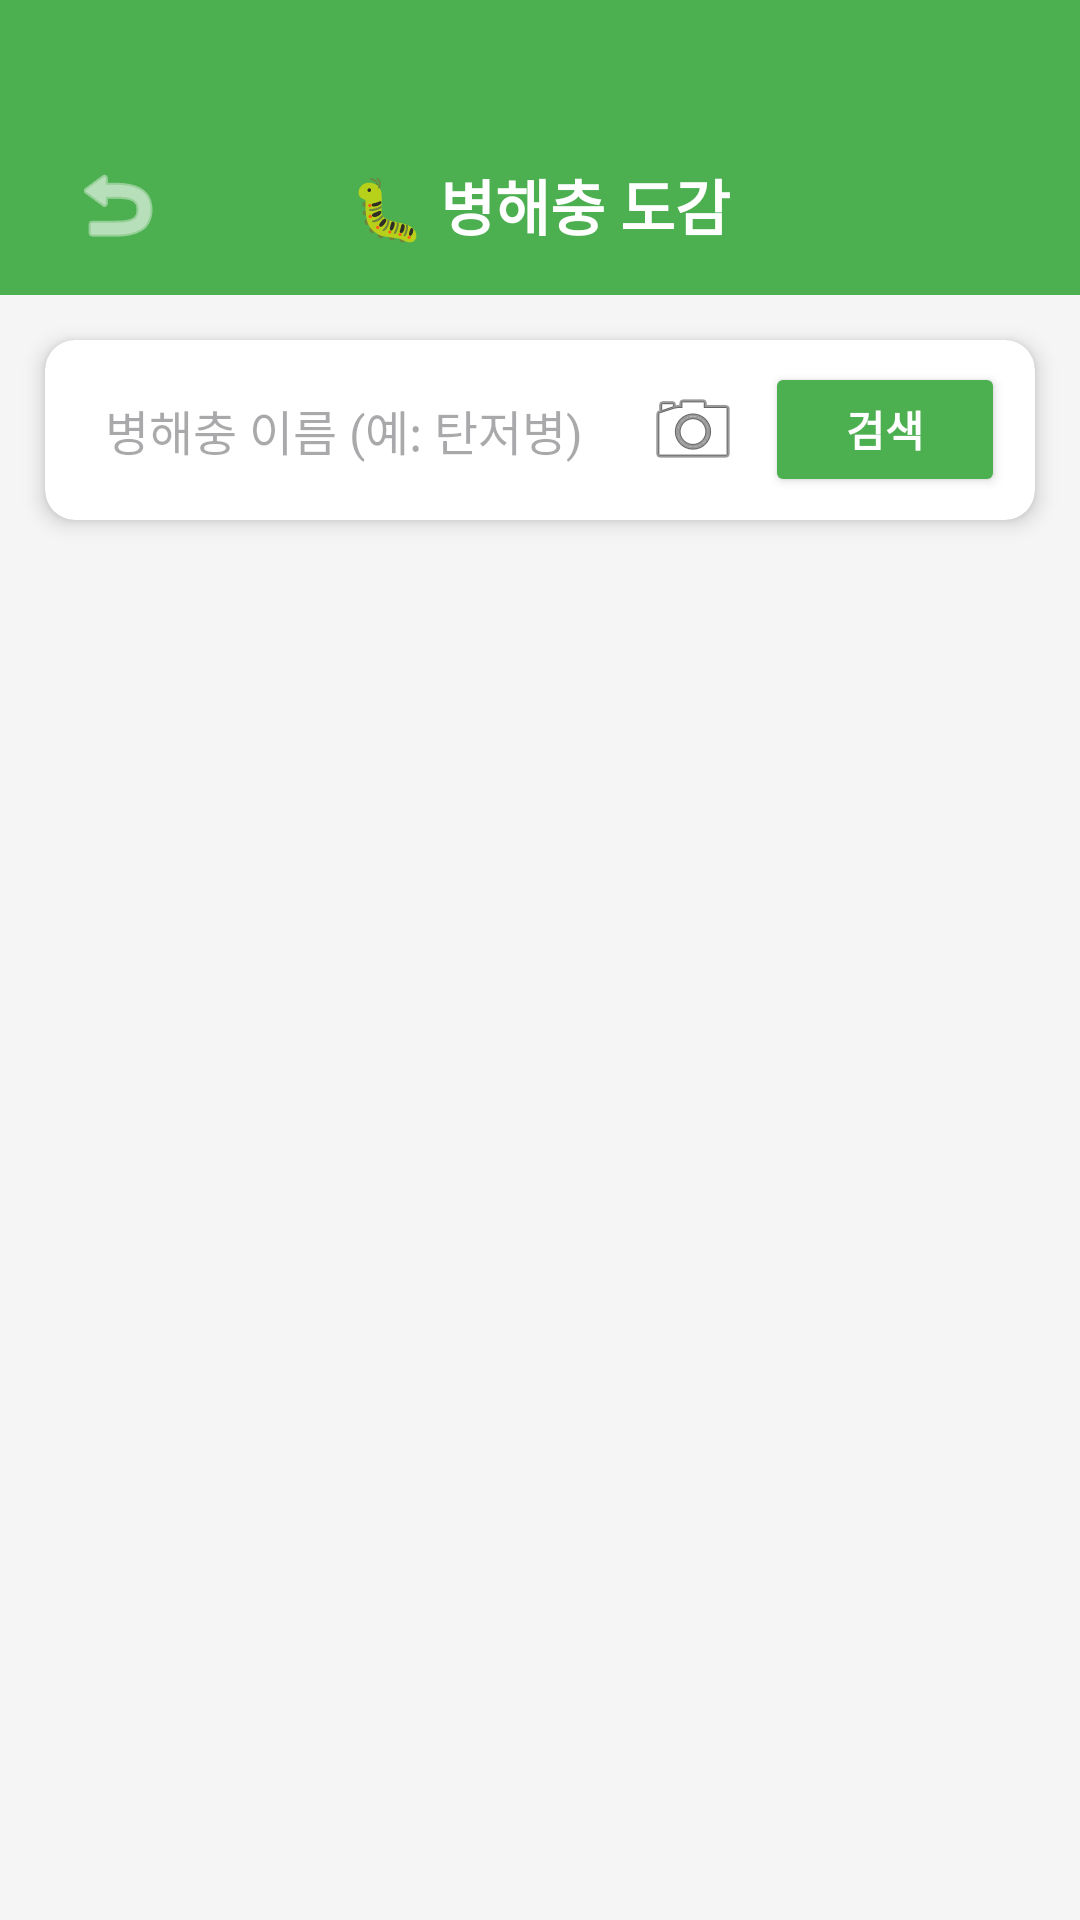

Icon click points for this 1080x1920 phone screenshot, format [x,y]:
뒤로가기: [118,205]
